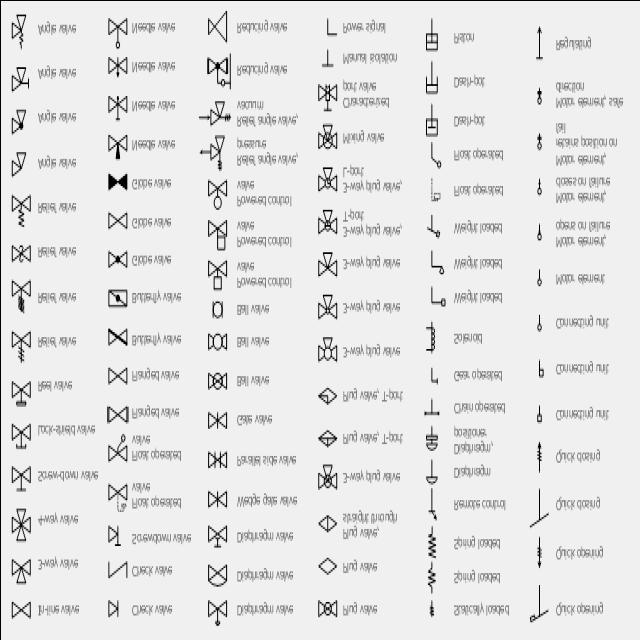3 Way Ball Valve: (312, 333, 338, 369)
3 Way Gate Valve: (6, 553, 32, 589), (314, 247, 338, 280)
3 Way Globe Valve: (314, 288, 338, 326), (314, 204, 339, 238)
4 Way Gate Valve: (5, 506, 32, 546)
Angle Valve: (9, 145, 29, 182)
Ball Valve: (202, 326, 228, 361), (204, 366, 232, 394)
Check Valve: (104, 554, 132, 582)
Closed Gate Valve: (104, 168, 128, 194)
Gate Valve: (6, 591, 34, 627), (102, 324, 131, 348), (105, 206, 128, 234)
Globe Valve: (104, 242, 128, 270)
Hand Operated Angle Valve: (8, 62, 34, 105)
Hand Operated Gate Valve: (4, 418, 32, 456), (6, 460, 34, 495)
Needle Valve: (204, 477, 232, 517), (312, 78, 340, 116), (104, 90, 128, 130), (108, 12, 127, 56), (204, 405, 230, 436), (105, 49, 126, 85), (106, 132, 130, 162)
PSV: (10, 8, 30, 56)
Powered Gate Valve: (204, 252, 228, 294)
Relief Valve: (9, 325, 33, 365)
